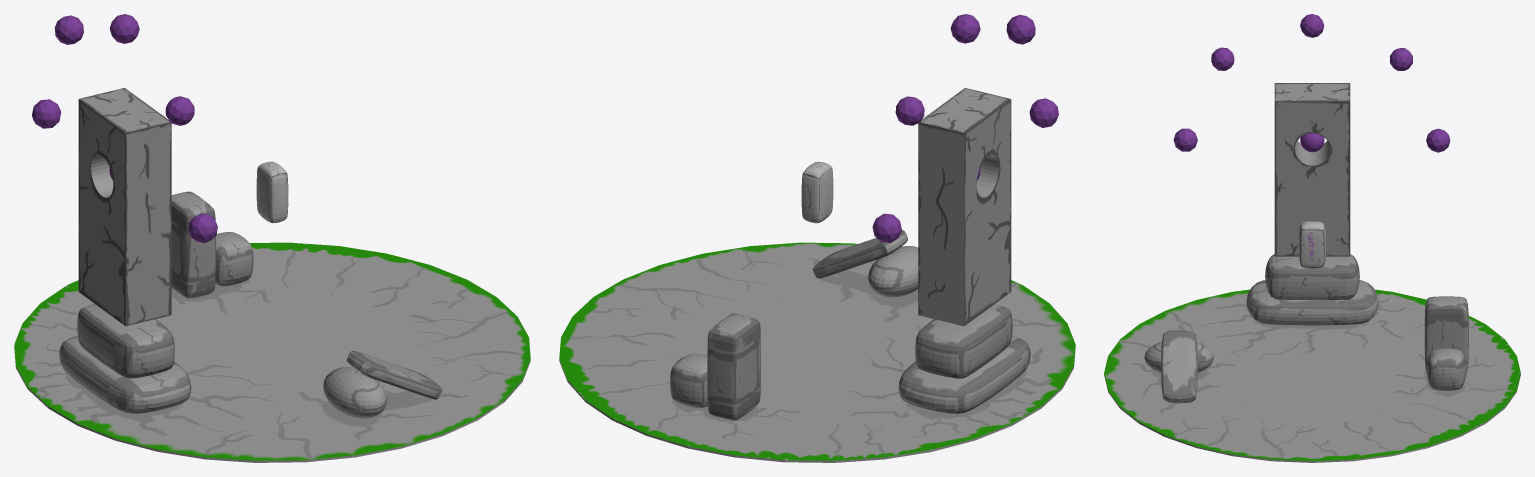
The model's file is Enchanting_Shrine.fbx.
The picture shows the model from 3 angles, left to right: view 1: azimuth 30°, elevation 25°; view 2: azimuth 150°, elevation 25°; view 3: azimuth 270°, elevation 25°; orthographic projection. The views are drawn at different scales.
Visible parts, largest first — view 1: Cylinder, Cube.002, Cube.001, Cube, Cube.004, Icosphere.001, Sphere.001, Cube.003, Cube.005, Cube.006; view 2: Cylinder, Cube.002, Cube.004, Cube.001, Cube, Icosphere.001, Sphere.001, Cube.005, Cube.006, Cube.003; view 3: Cylinder, Cube.002, Cube, Cube.001, Cube.003, Cube.004, Icosphere.001, Cube.005, Cube.006, Sphere.001.
Part boxes in pixels (x1,y1,x2,y2): Cylinder: (14, 242, 530, 462); Cube.002: (78, 87, 171, 326); Cube.001: (77, 303, 174, 378); Cube: (59, 335, 191, 413); Cube.004: (171, 191, 215, 298); Icosphere.001: (32, 14, 217, 243); Sphere.001: (323, 367, 387, 418); Cube.003: (347, 350, 442, 399); Cube.005: (215, 232, 253, 286); Cube.006: (256, 161, 288, 223); Cylinder: (559, 242, 1075, 462); Cube.002: (918, 88, 1011, 326); Cube.004: (707, 313, 760, 420); Cube.001: (915, 303, 1012, 378); Cube: (898, 335, 1030, 413); Icosphere.001: (872, 14, 1058, 242); Sphere.001: (868, 246, 918, 297); Cube.005: (670, 353, 707, 407); Cube.006: (801, 161, 833, 223); Cube.003: (812, 230, 907, 278); Cylinder: (1104, 289, 1520, 462); Cube.002: (1274, 83, 1350, 256); Cube: (1246, 280, 1378, 325); Cube.001: (1265, 254, 1359, 299); Cube.003: (1161, 330, 1197, 403); Cube.004: (1424, 296, 1468, 373); Icosphere.001: (1173, 14, 1450, 152); Cube.005: (1426, 348, 1466, 390); Cube.006: (1298, 221, 1326, 268); Sphere.001: (1144, 341, 1213, 372).
Size of the model in its own units: 562 by 449 by 562.
Materials: 11 (11 with a texture image).
